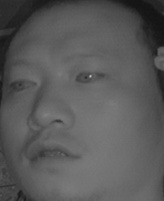eye: (73, 65, 106, 88), (8, 74, 39, 95)
mouth: (23, 135, 83, 171)
